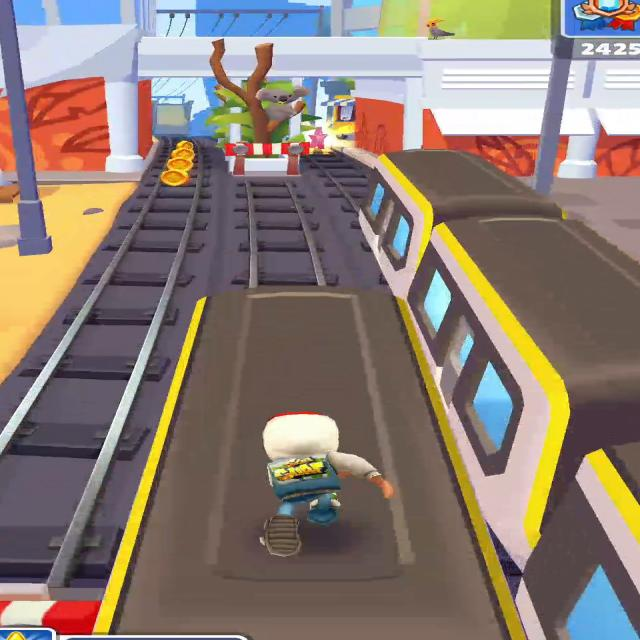block pillar: (206, 38, 309, 177)
climber: (153, 101, 191, 139)
train: (361, 149, 561, 291)
